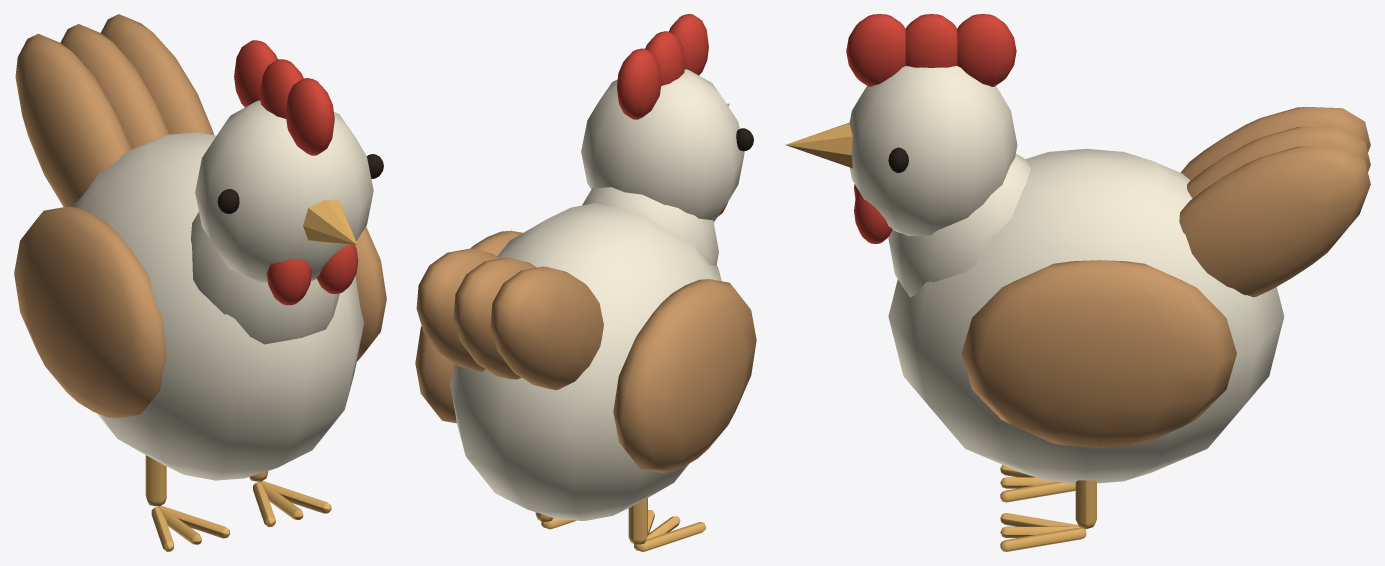
Rendered from hen.glb.
3 views of the same model, side by side, from view 1: azimuth 30°, elevation 25°; view 2: azimuth 150°, elevation 25°; view 3: azimuth 270°, elevation 25° (orthographic). The views are drawn at different scales.
Visible parts, largest first — view 1: BodyMesh, HeadMesh, LeftFootMesh, RightFootMesh; view 2: BodyMesh, HeadMesh, LeftFootMesh; view 3: BodyMesh, HeadMesh, RightFootMesh, LeftFootMesh.
Boxes of the visible parts, box(x1,y1,x2,y2) form: BodyMesh: box(14, 14, 386, 480); HeadMesh: box(191, 40, 383, 344); LeftFootMesh: box(145, 455, 229, 551); RightFootMesh: box(249, 471, 331, 527); BodyMesh: box(415, 203, 756, 520); HeadMesh: box(581, 14, 753, 265); LeftFootMesh: box(628, 498, 705, 551); BodyMesh: box(888, 107, 1370, 483); HeadMesh: box(785, 14, 1030, 296); RightFootMesh: box(1000, 480, 1096, 551); LeftFootMesh: box(1000, 465, 1075, 502).
Size of the model in its own units: 0.39 by 0.639 by 0.6806.
